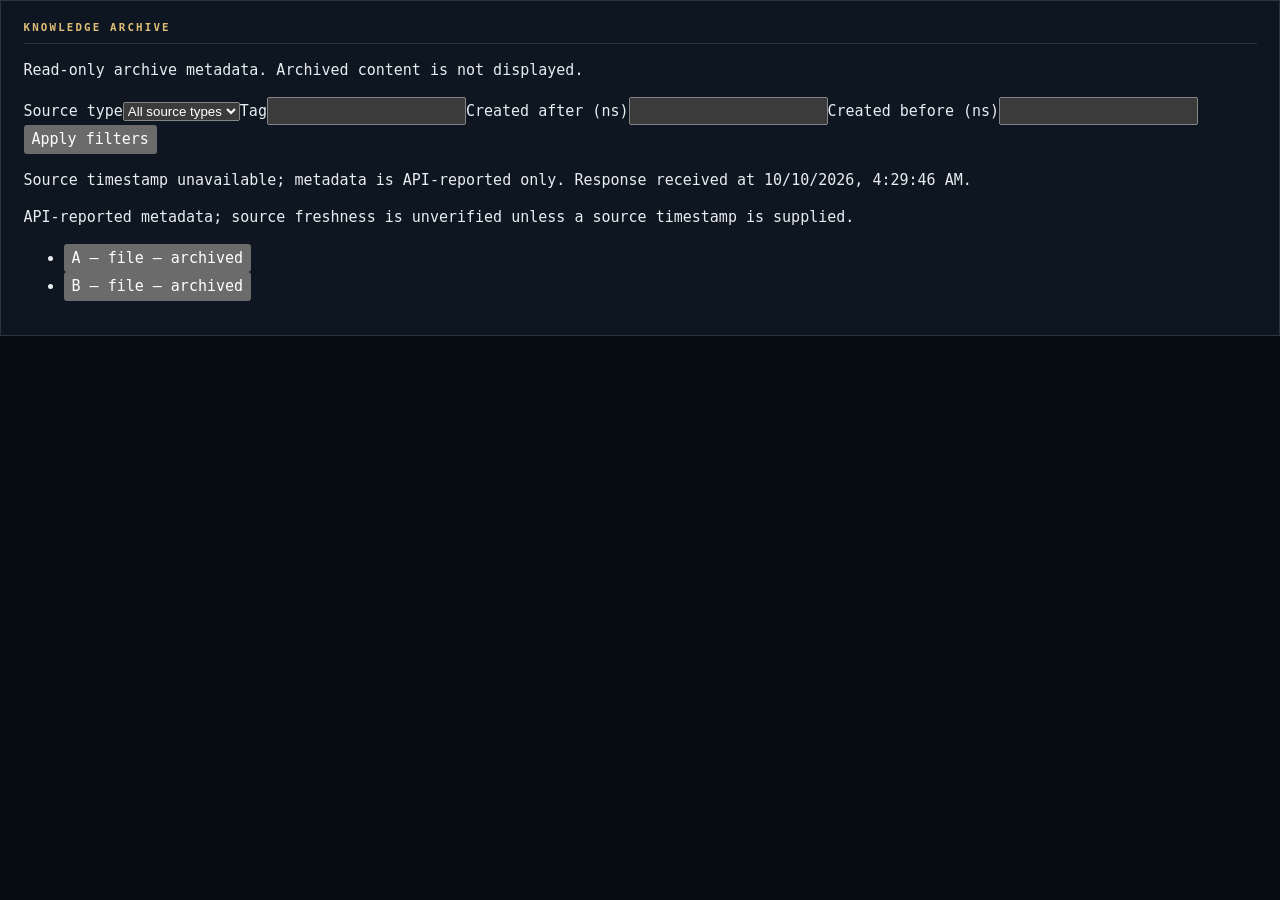
Scenario: KnowledgeArchiveView › ignores late detail and runs results from an older selection
The width and height of the screenshot is (1280, 900).
Click the button with aria-label "View ingestion A": coordinates (157, 258) [64, 244, 251, 272]
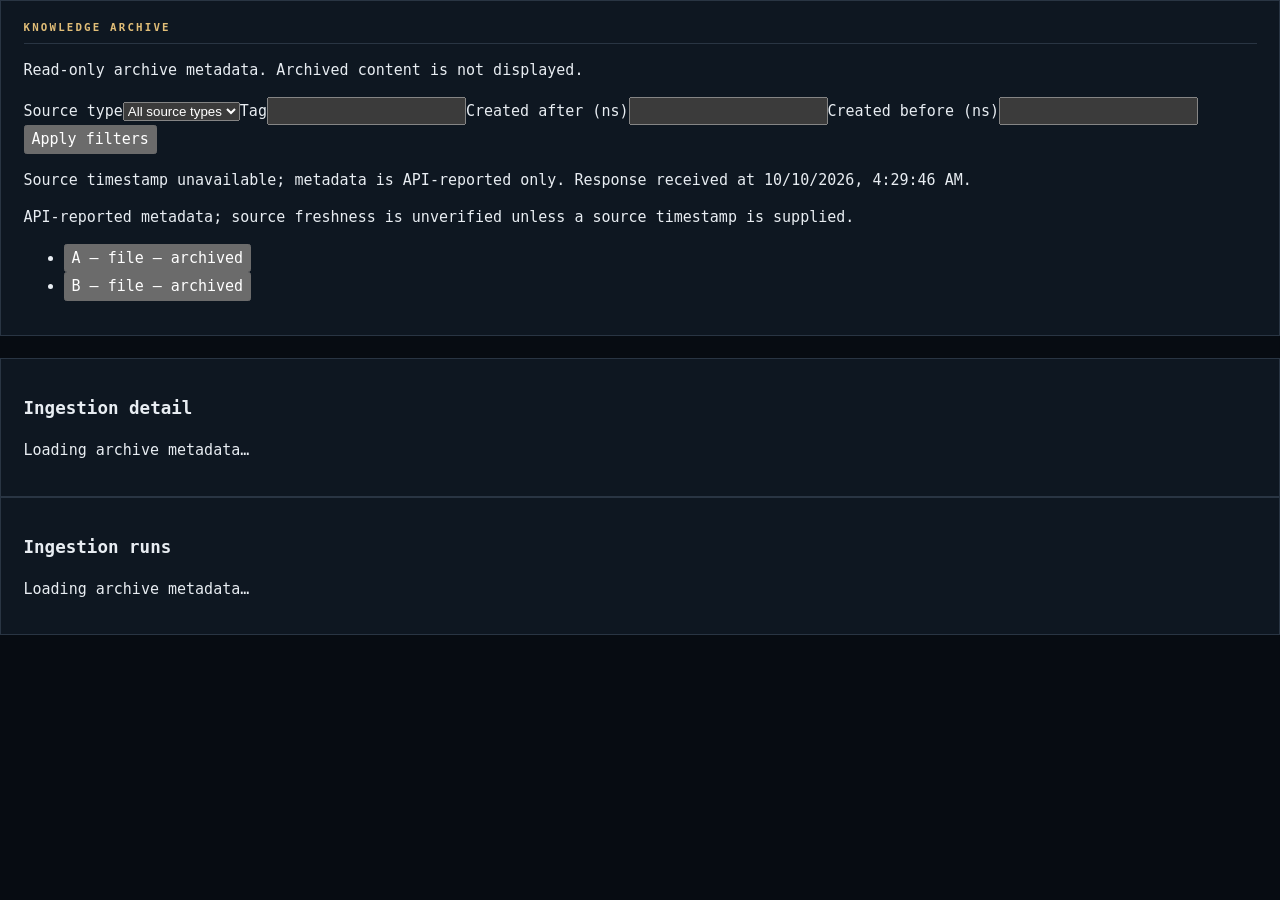
Click the button with aria-label "View ingestion B": coordinates (157, 287) [64, 272, 251, 301]
(page scrolled)
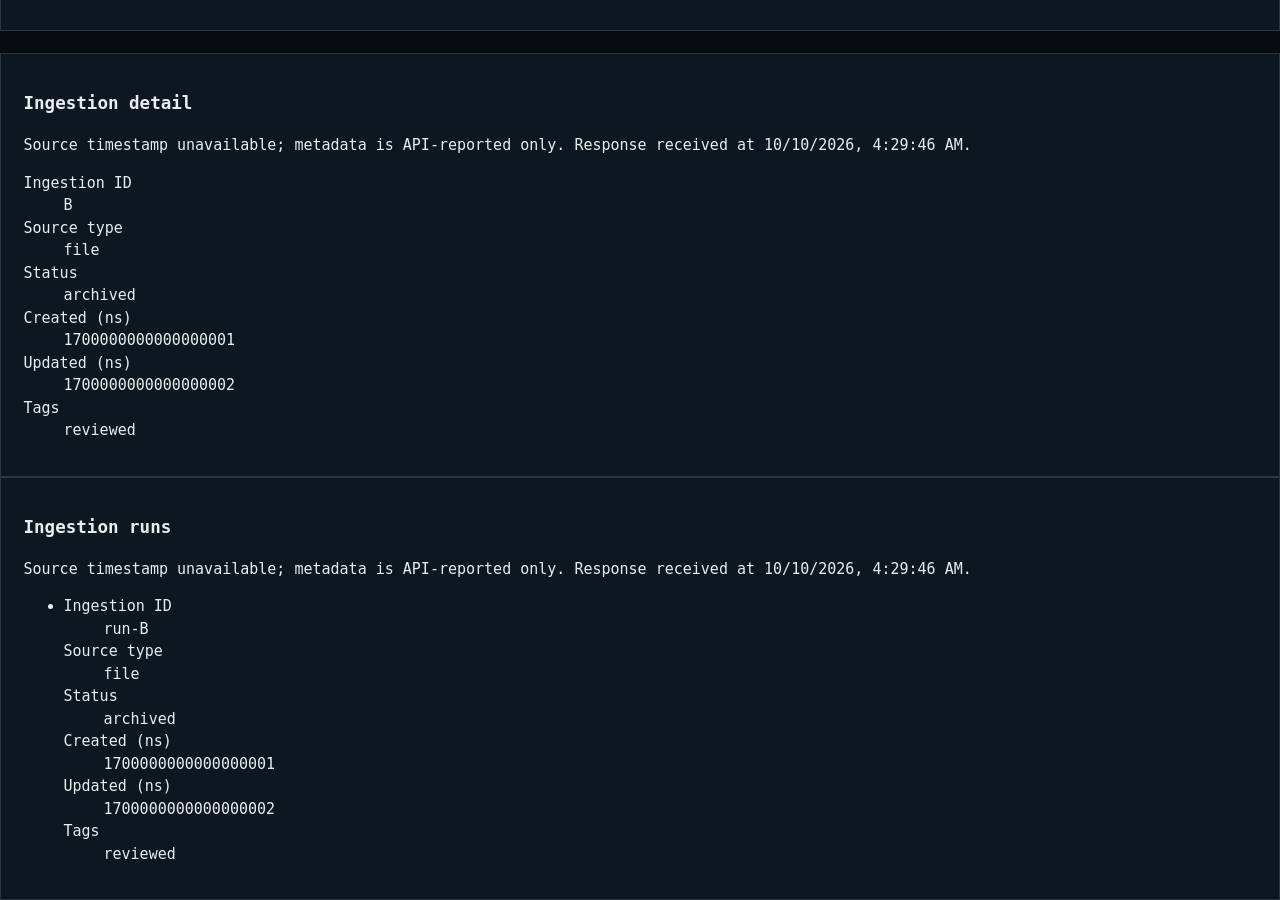
Now the element "Ingestion detail" shows "b", box [64, 196, 72, 214]
Now the element "Ingestion runs" shows "run-B", box [104, 620, 149, 638]
